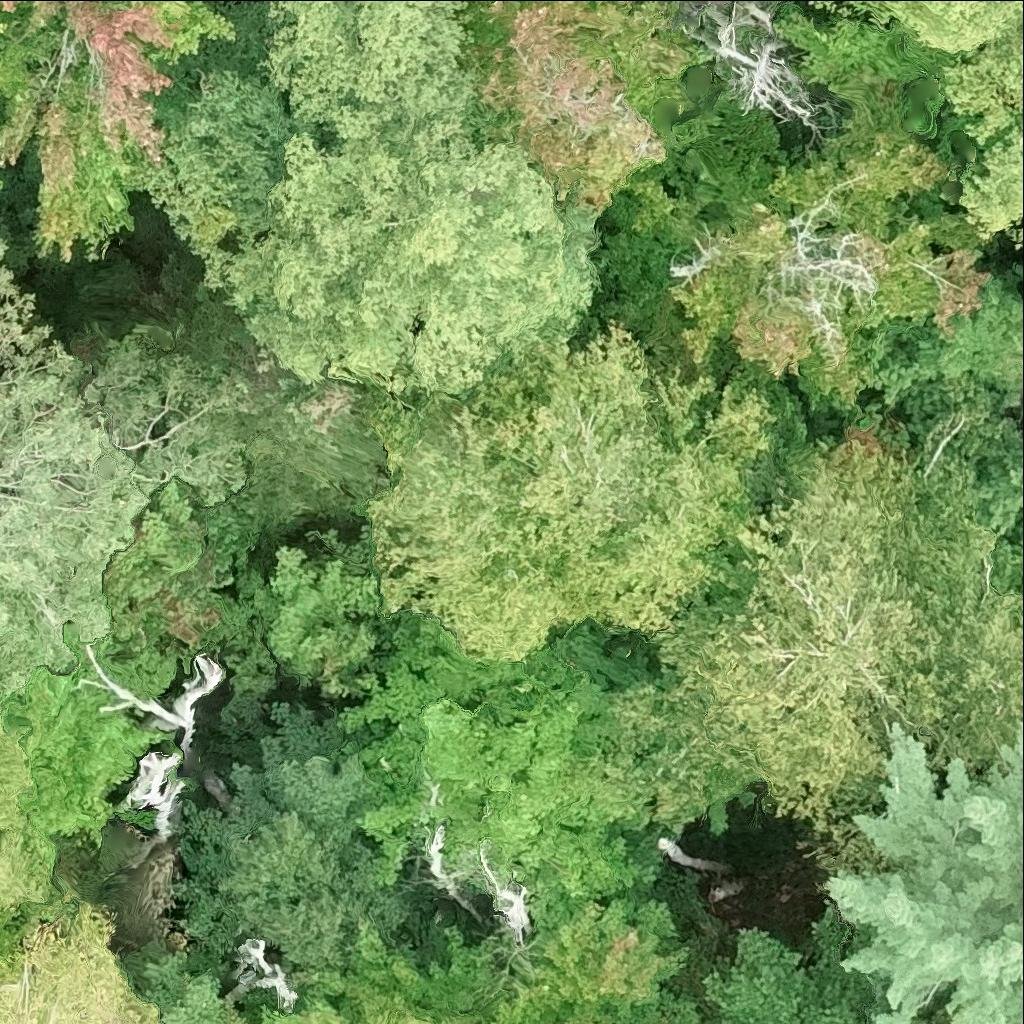crown: (615, 376, 1023, 877), (0, 266, 249, 724), (218, 119, 601, 396), (475, 323, 778, 634), (678, 134, 990, 404), (176, 704, 408, 988), (357, 379, 581, 663), (353, 691, 659, 894), (0, 0, 237, 262), (827, 720, 1023, 1023), (454, 0, 692, 213), (263, 0, 473, 142), (189, 372, 389, 497), (495, 897, 688, 1023), (0, 904, 161, 1023), (77, 645, 223, 755), (712, 0, 830, 127), (271, 548, 380, 680), (0, 719, 55, 909), (850, 0, 1023, 54), (259, 989, 474, 1023), (961, 126, 1023, 234), (479, 841, 531, 945), (127, 750, 184, 840), (239, 940, 297, 1011), (1009, 324, 1023, 403), (4, 0, 19, 15), (0, 233, 6, 255), (491, 1019, 499, 1023), (816, 0, 824, 3), (1021, 234, 1023, 241), (0, 182, 1, 187)
